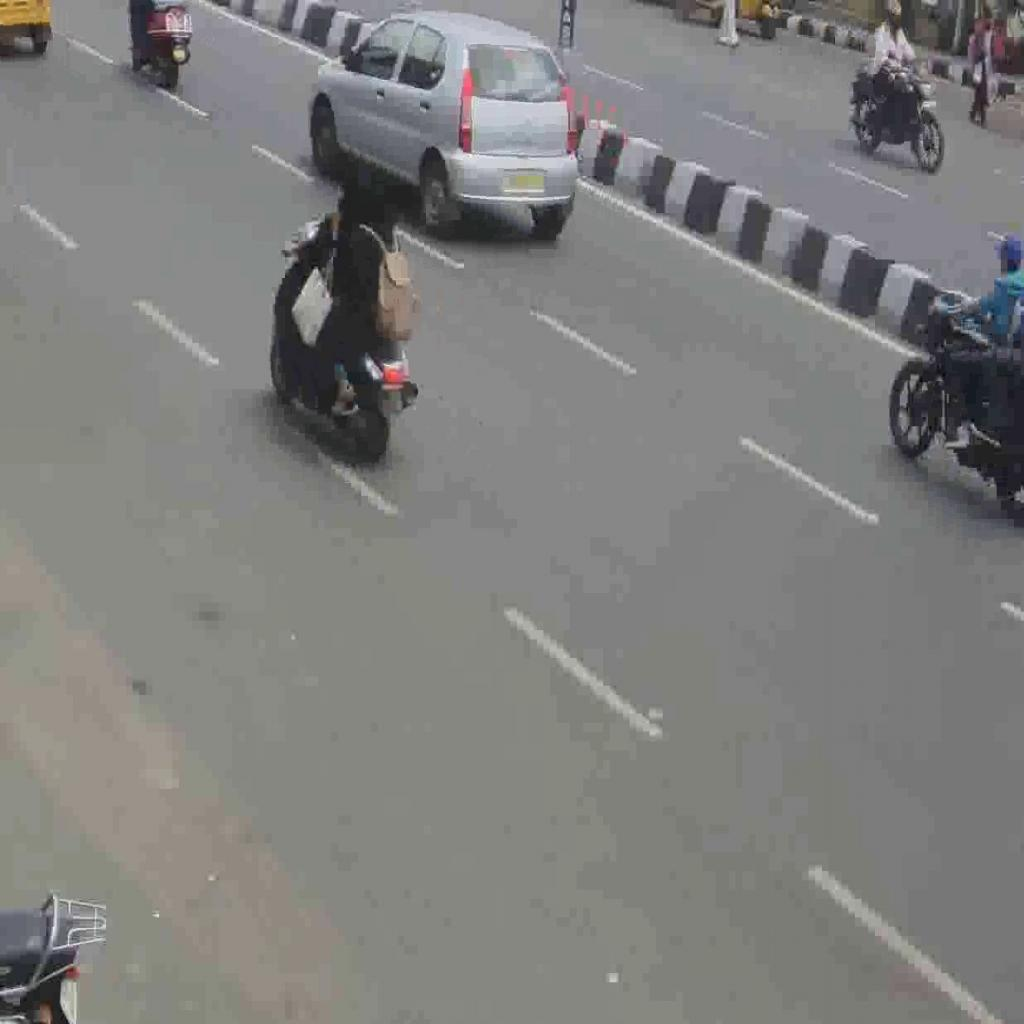bike: (270, 216, 419, 462), (887, 290, 1024, 524)
noise: (848, 0, 946, 175)
